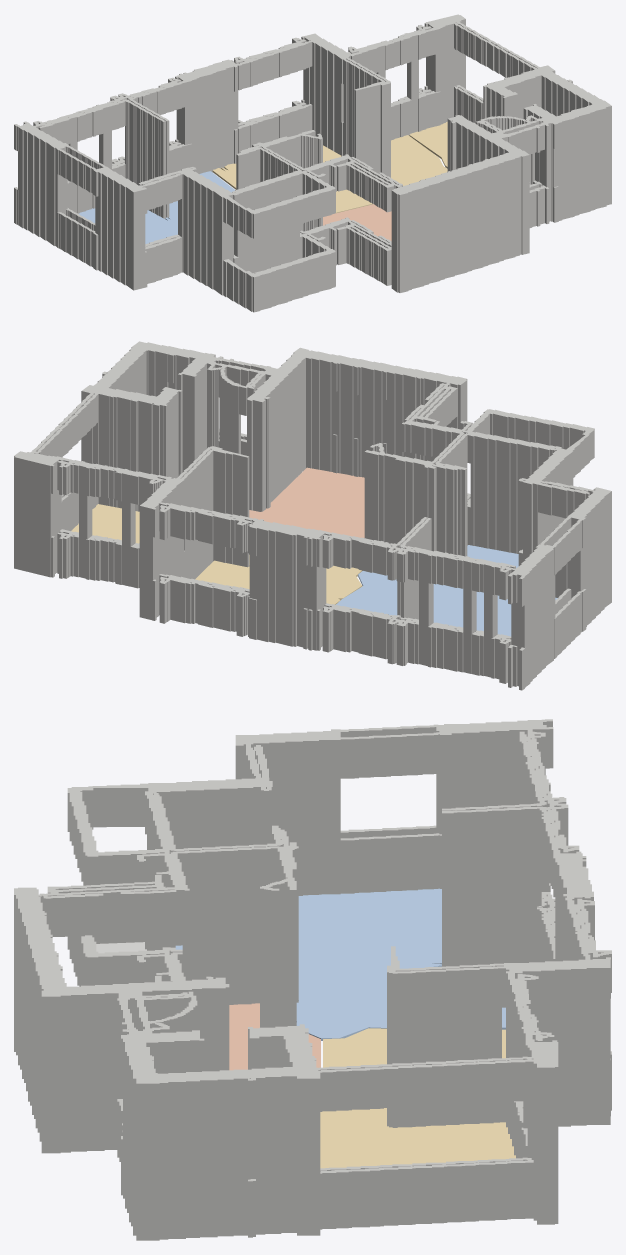
The picture shows the model from 3 angles, top to bottom: view 1: azimuth 30°, elevation 25°; view 2: azimuth 150°, elevation 25°; view 3: azimuth 270°, elevation 25°; orthographic projection. The views are drawn at different scales.
Parts seen in each view (by area): view 1: walls, room:living:1, room:bedroom:0, room:kitchen:4, room:living:2; view 2: walls, room:kitchen:4, room:bedroom:0, room:living:1, room:living:2; view 3: walls, room:bedroom:0, room:living:1, room:kitchen:4.
Part boxes in pixels (x1,y1,x2,y2): walls: (14, 14, 611, 312); room:living:1: (212, 135, 447, 213); room:bedroom:0: (78, 171, 234, 243); room:kitchen:4: (323, 204, 391, 241); room:living:2: (409, 121, 447, 168); walls: (14, 341, 611, 690); room:kitchen:4: (249, 467, 364, 537); room:bedroom:0: (336, 545, 557, 636); room:living:1: (195, 555, 362, 604); room:living:2: (71, 504, 139, 543); walls: (14, 719, 611, 1240); room:bedroom:0: (175, 888, 505, 1040); room:living:1: (320, 1028, 515, 1168); room:kitchen:4: (229, 1003, 320, 1070).
Bounding box in the file's own units: 13.95 × 2.8 × 9.67.
